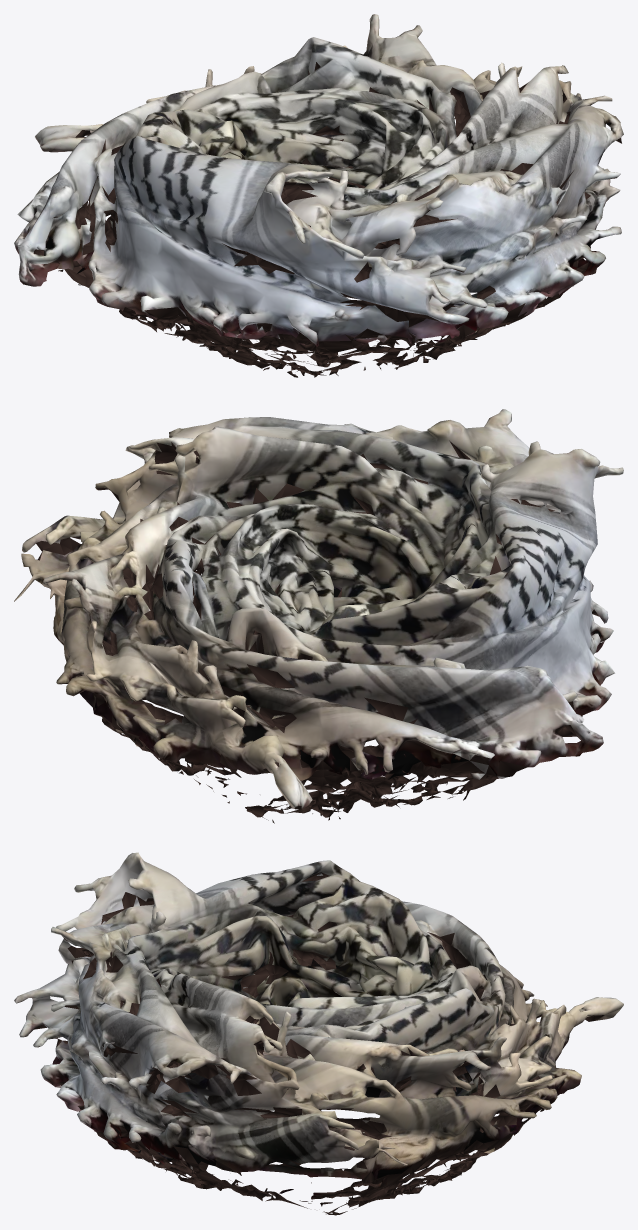
Rendered from kendall.glb.
The picture shows the model from 3 angles, top to bottom: view 1: azimuth 30°, elevation 25°; view 2: azimuth 150°, elevation 25°; view 3: azimuth 270°, elevation 25°; orthographic projection. The views are drawn at different scales.
Bounding box in the file's own units: 2.28 × 1.04 × 2.29.
11 materials, 11 textured.
